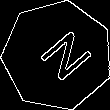N_SW: (25, 24, 90, 87)
